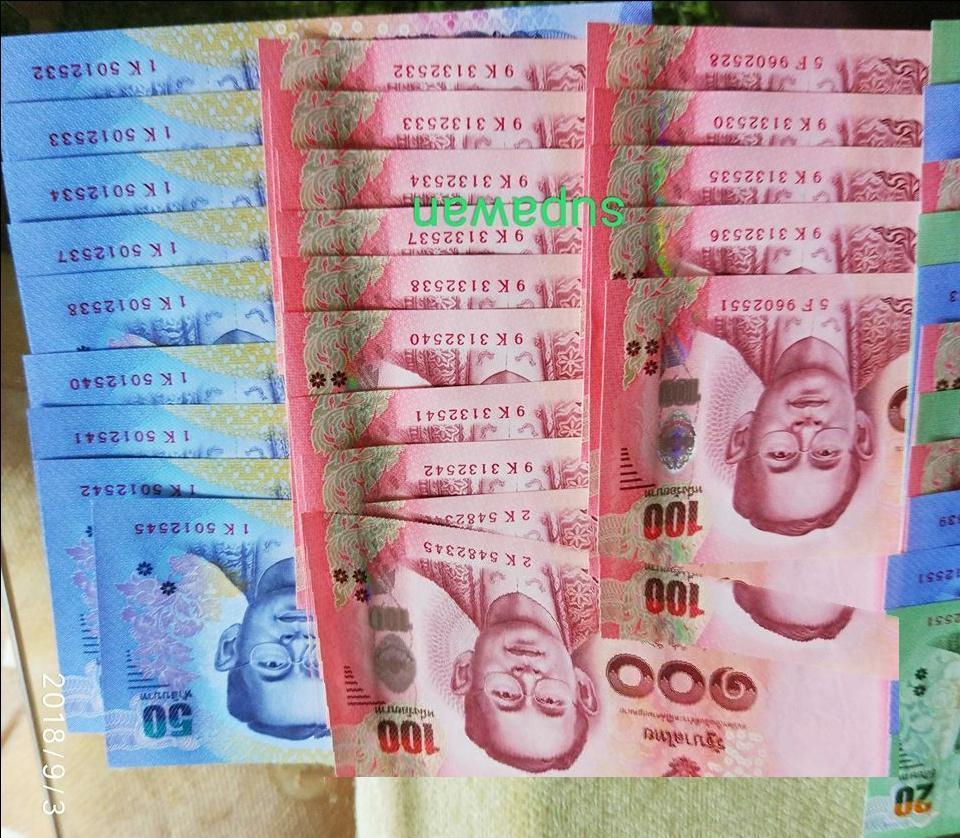100BahtTai: (303, 490, 899, 778)
